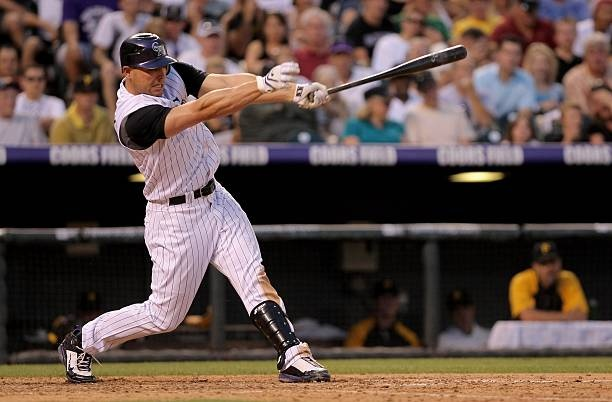bita: (311, 43, 467, 106)
